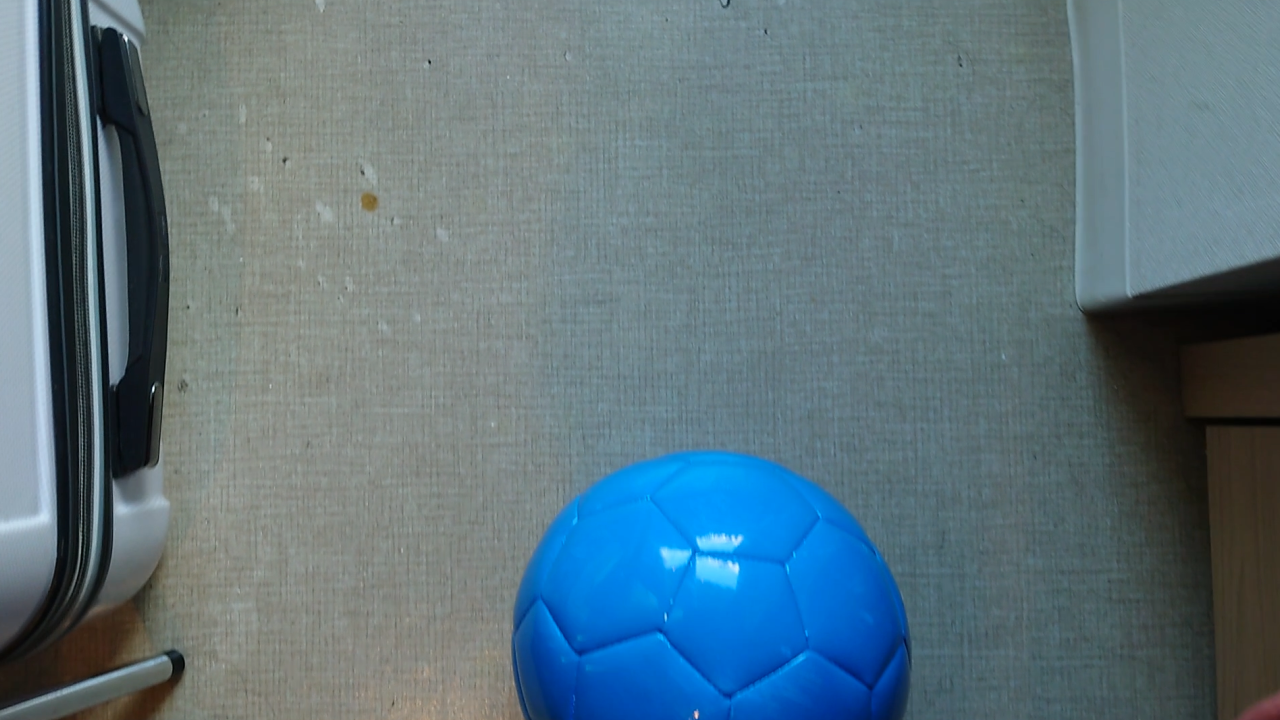blue: (507, 448, 911, 720)
